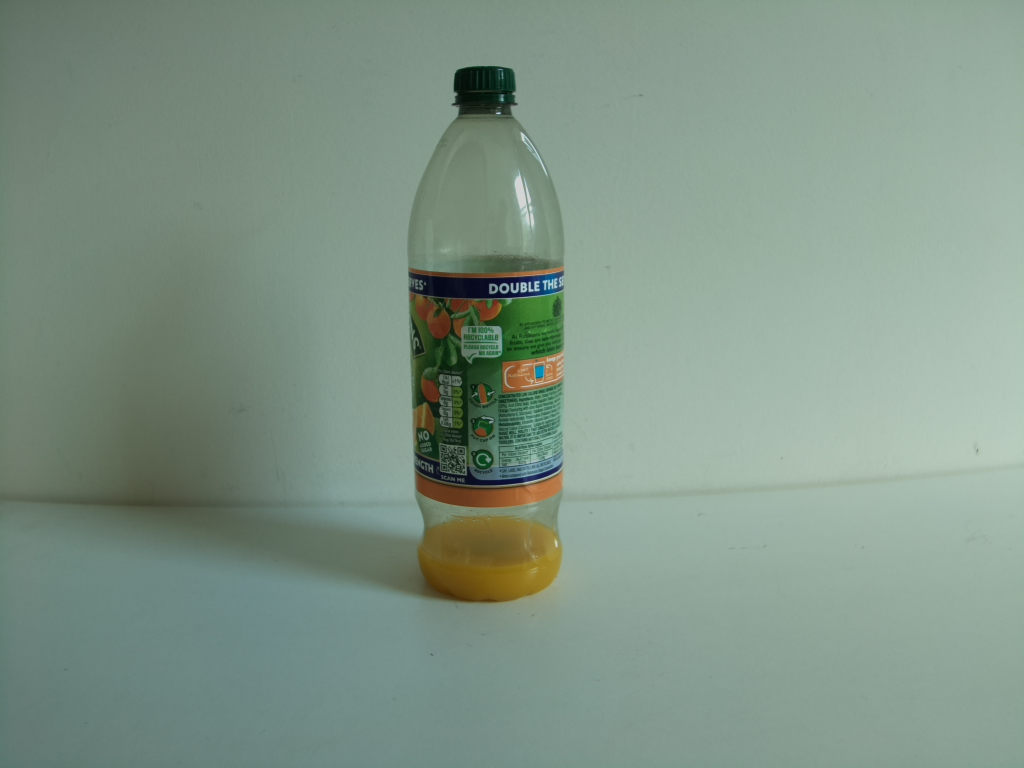juice: (403, 63, 575, 605)
